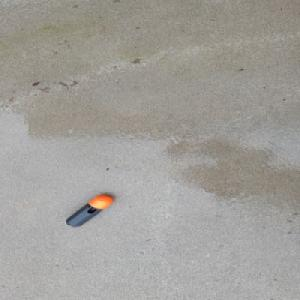PlasticPart: (65, 194, 113, 227)
